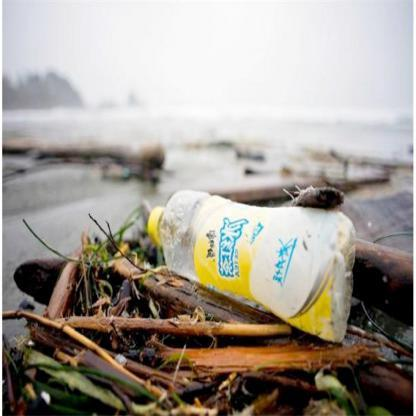Plastic: (144, 186, 353, 345)
